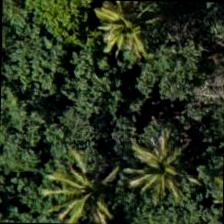Kelapa_Sawit: (112, 126, 204, 218), (41, 144, 133, 224), (83, 0, 175, 73)
